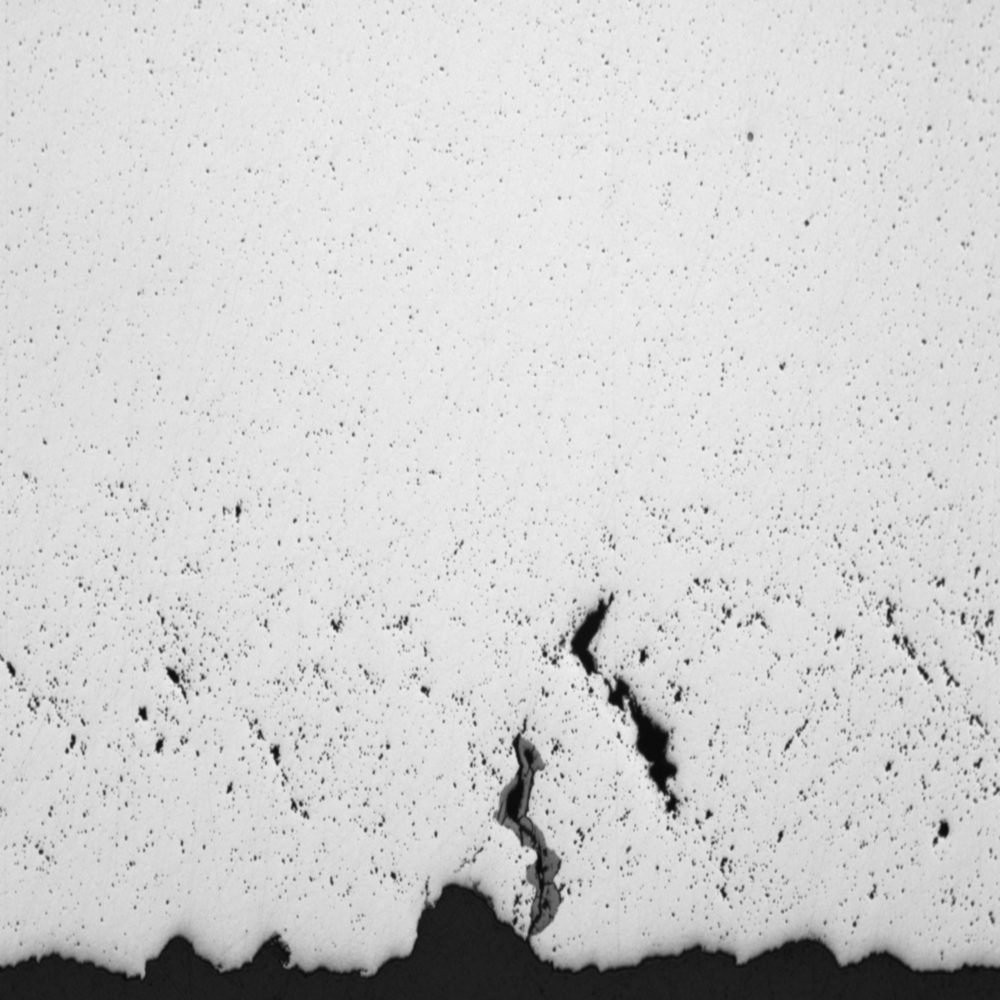crack: (553, 580, 699, 831), (368, 863, 562, 981), (479, 719, 578, 934)
